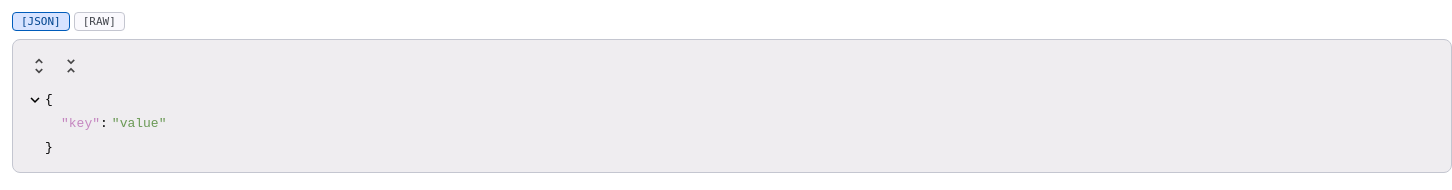
Test: SmartBlobComponent › mode switching › should switch to raw mode when RAW toggle is clicked
Expected: the element with test id "json-view" is shown, [25,52,166,155]
Note: Click RAW toggle
Click the button with test id "raw-toggle": (99, 22) [74,12,125,31]
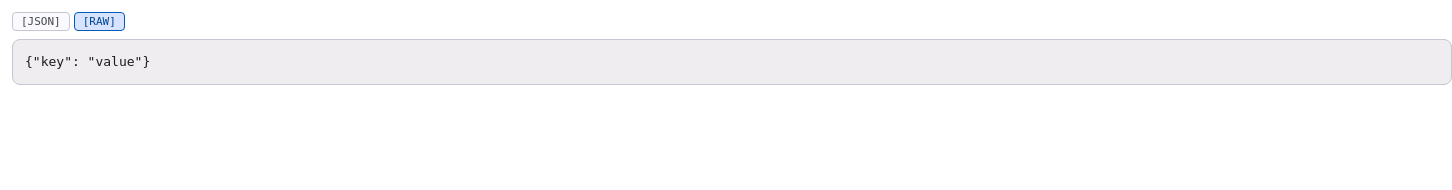
Expected: the text "{\"key\": \"value\"}" is shown, [25,54,150,69]
Expected: the element with test id "json-view" is gone
